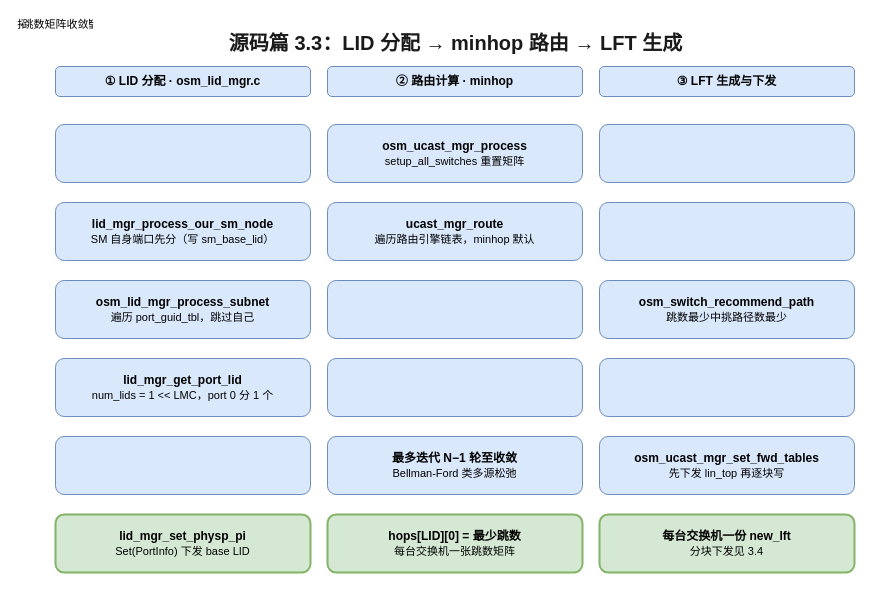
The diagram is 873 pixels wide and 591 high, and some of its shapes have lost their labels. The box of each missing label's shape, as (x1, y1, x2, y2) in pixels:
build_lid_matrices hop_0_1 初始化 0 / 1 跳: (326, 280, 582, 338)
lid_mgr_find_free_lid_range 按 LMC 对齐找连续空闲区间: (54, 436, 310, 494)
new_lft[lid] = port 结果写入 new_lft: (598, 358, 854, 416)
osm_lid_mgr_process_sm 复位 port_lid_tbl 与空闲区间: (54, 124, 310, 182)
process_neighbors 松弛 吸收邻居最少跳数 + 边权取小: (326, 358, 582, 416)
ucast_mgr_build_lfts 跳数矩阵 → LFT: (598, 124, 854, 182)
ucast_mgr_process_tbl 遍历端口 × LMC 偏移: (598, 202, 854, 260)
